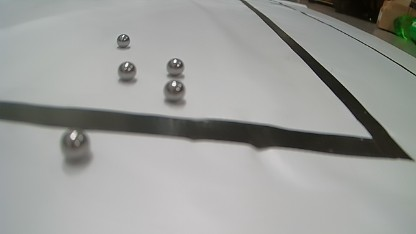ironball: (60, 129, 90, 161), (164, 79, 185, 101), (117, 61, 136, 80), (166, 58, 184, 76), (116, 34, 130, 47)
